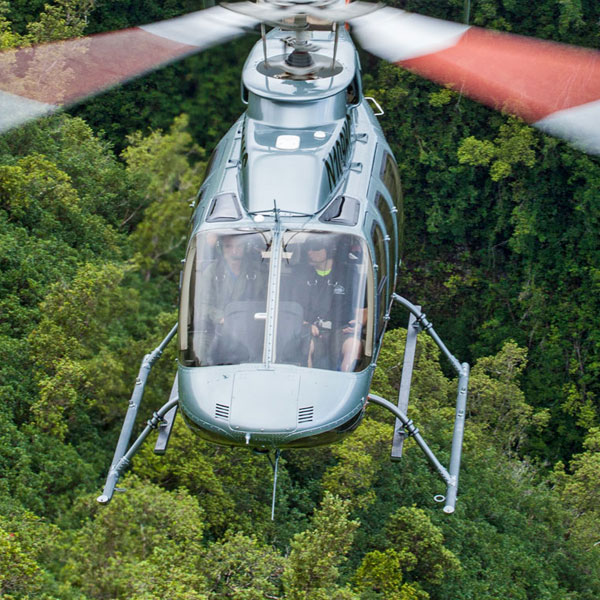Helicopter: (123, 19, 486, 504)
